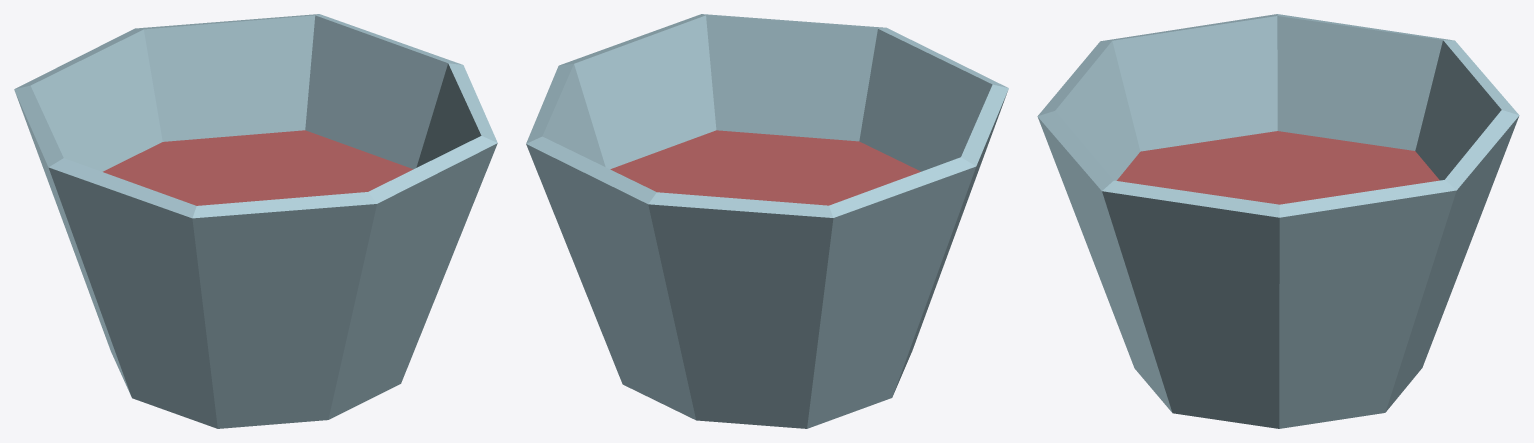
File: Kitchen_Cup2.fbx
3 renders of one model, left to right at view 1: azimuth 30°, elevation 25°; view 2: azimuth 150°, elevation 25°; view 3: azimuth 270°, elevation 25°, orthographic.
Parts seen in each view (by area): view 1: Kitchen_Cup2; view 2: Kitchen_Cup2; view 3: Kitchen_Cup2.
Boxes of the visible parts, x1,y1,x2,y2 form: Kitchen_Cup2: [14, 14, 497, 428]; Kitchen_Cup2: [526, 14, 1008, 428]; Kitchen_Cup2: [1037, 14, 1519, 428].
Bounding box in the file's own units: 17.66 × 10.42 × 17.67.
